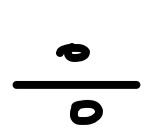div: (12, 43, 140, 125)
